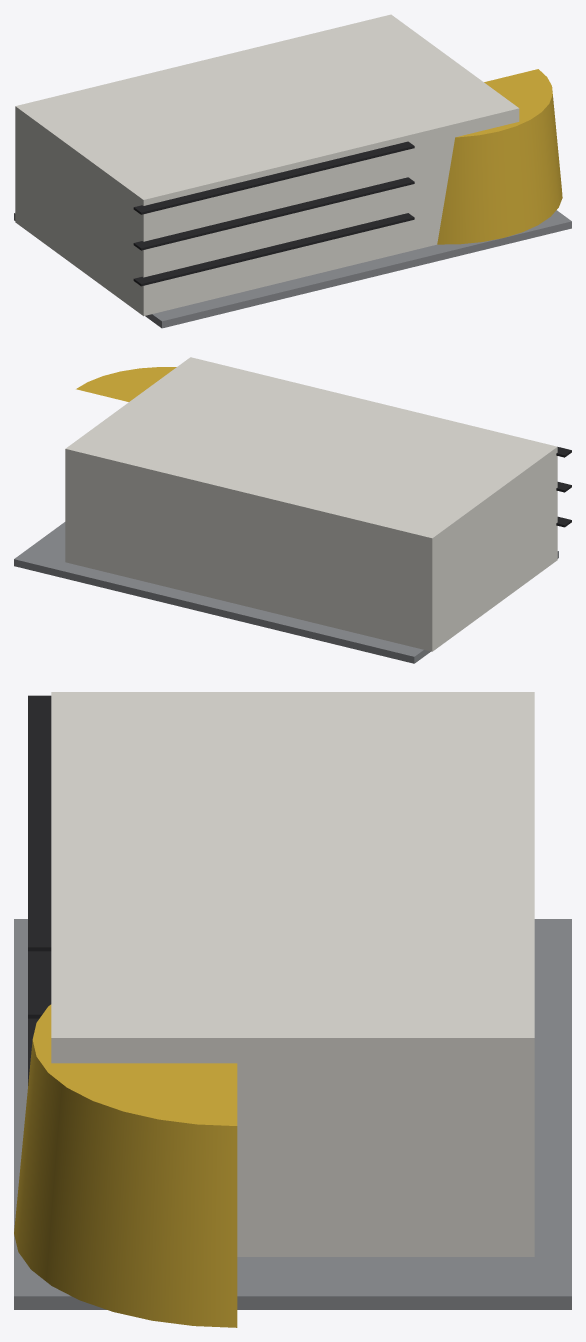
The model's file is lhc-building.glb.
3 renders of one model, top to bottom at view 1: azimuth 30°, elevation 25°; view 2: azimuth 150°, elevation 25°; view 3: azimuth 270°, elevation 25°, orthographic. The views are drawn at different scales.
Visible parts, largest first — view 1: Lecture_Hall_Complex_AKAM; view 2: Lecture_Hall_Complex_AKAM; view 3: Lecture_Hall_Complex_AKAM.
Part boxes in pixels (bbox=[...]): Lecture_Hall_Complex_AKAM: bbox=[14, 14, 571, 328]; Lecture_Hall_Complex_AKAM: bbox=[14, 357, 571, 663]; Lecture_Hall_Complex_AKAM: bbox=[14, 692, 571, 1327].
Bounding box in the file's own units: 54 × 13.8 × 30.
